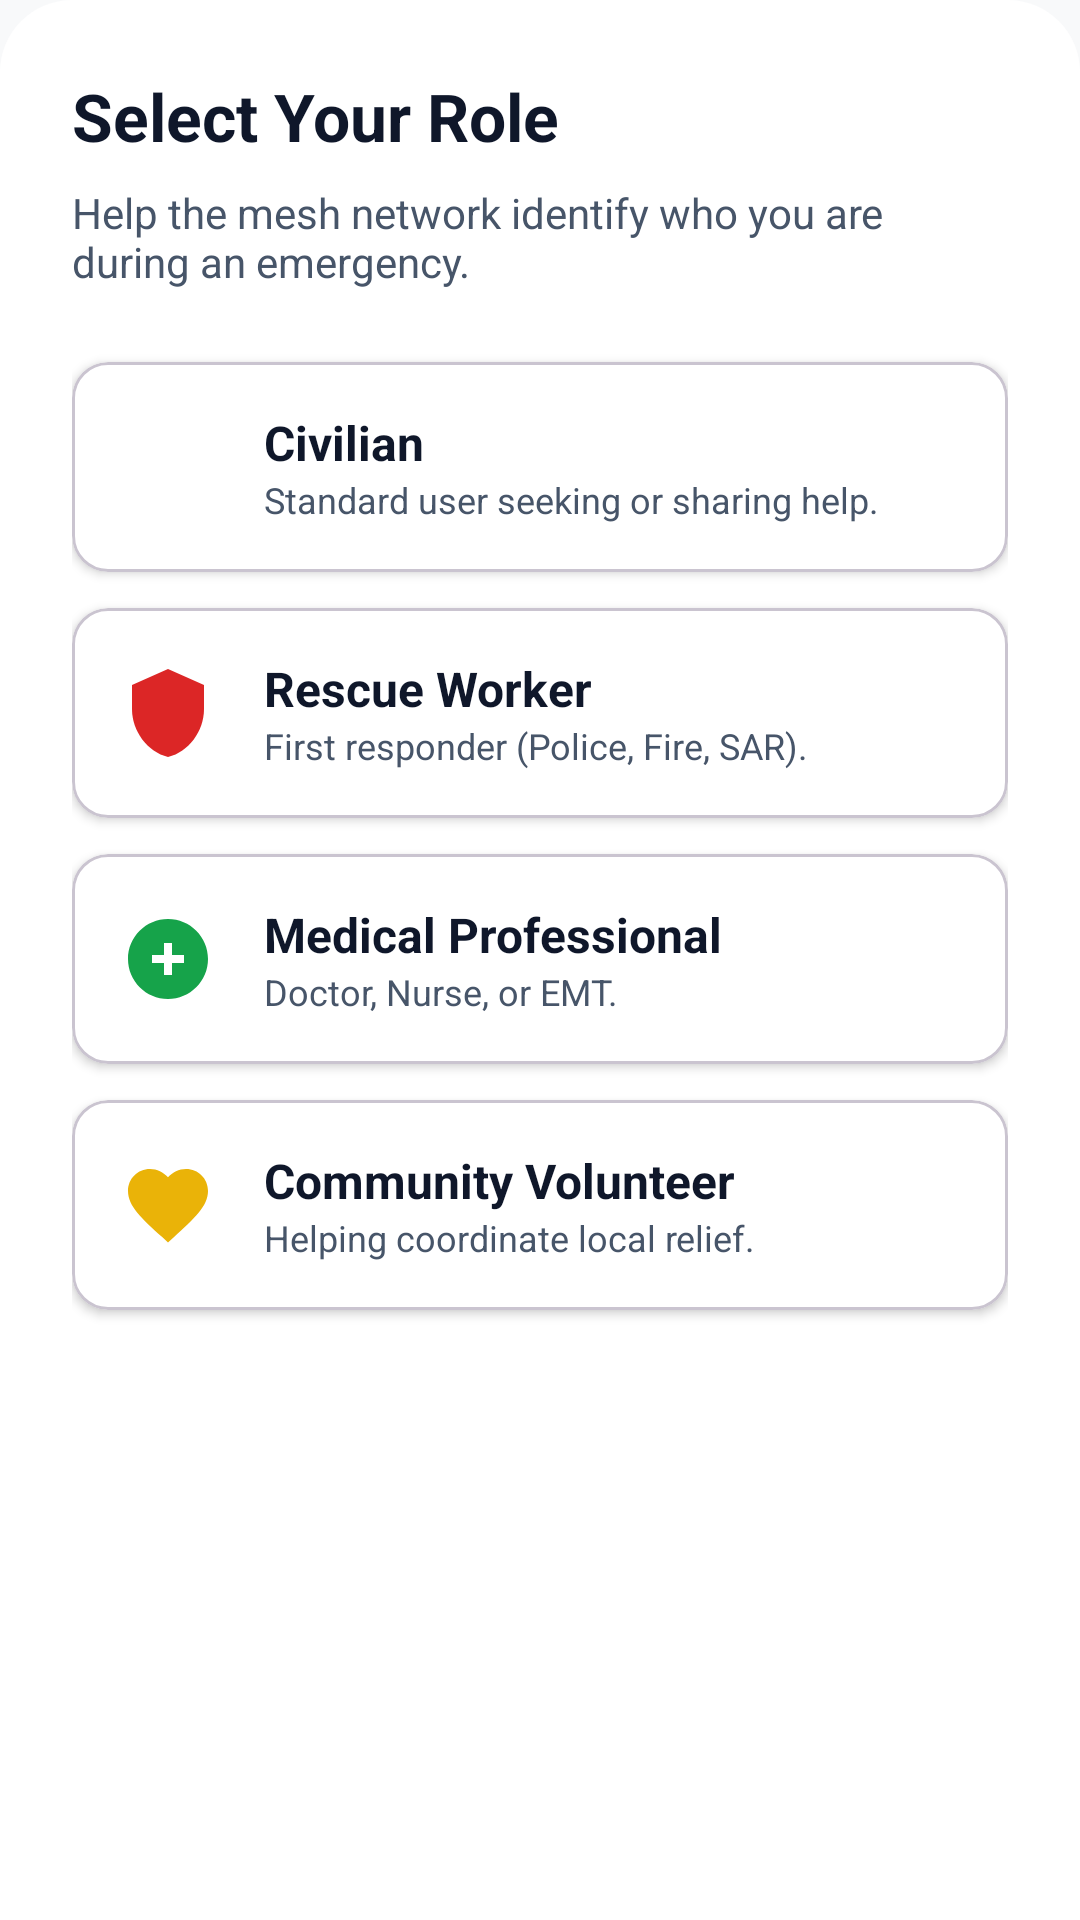

Icon click points for this 1080 x 1920 phone screenshot, format point (x, y):
role medical: point (168, 959)
role rescue: point (168, 713)
role volunteer: point (168, 1206)
